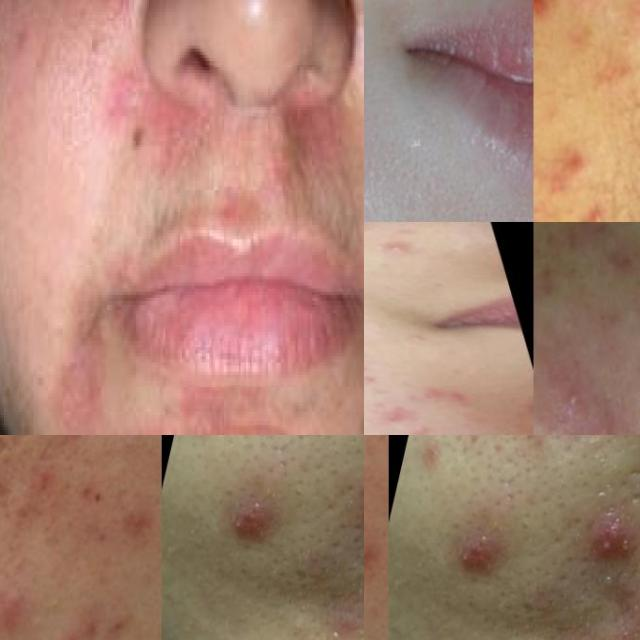acne_scars: (553, 222, 619, 252), (0, 452, 22, 507)
comedone: (573, 203, 603, 222), (626, 107, 640, 137)
papule: (539, 130, 596, 181), (0, 575, 30, 640), (418, 381, 480, 410), (369, 234, 423, 263), (590, 405, 628, 435), (370, 404, 416, 426), (47, 615, 87, 640), (561, 378, 587, 416), (364, 356, 385, 388), (533, 0, 558, 24), (401, 423, 445, 435)
pustule: (110, 492, 156, 552), (364, 524, 382, 585), (631, 594, 640, 640)
sebo-crystan-conglo: (575, 494, 640, 581), (442, 520, 501, 596), (215, 487, 274, 562), (348, 461, 364, 548)
